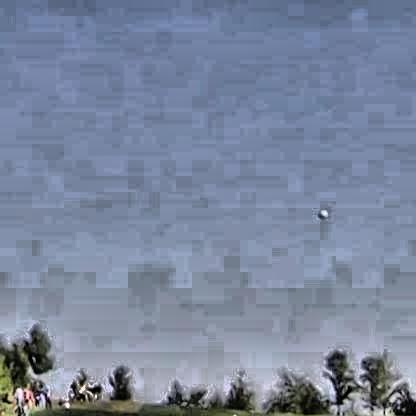golfball: (315, 206, 325, 217)
